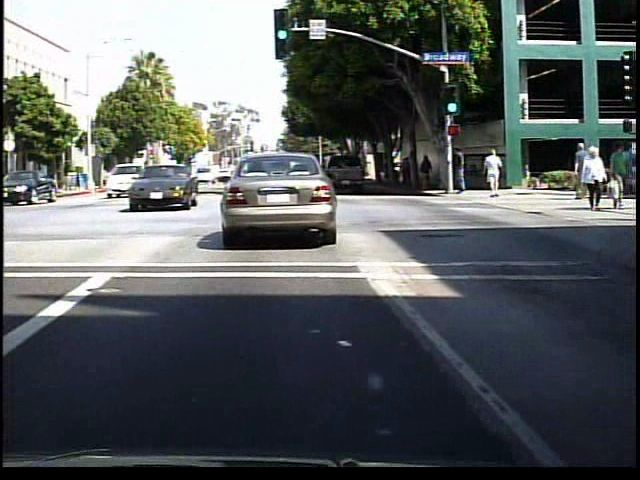person: (580, 146, 611, 211), (609, 144, 634, 208), (575, 141, 598, 204), (481, 147, 504, 201), (454, 144, 475, 201), (423, 152, 439, 191), (408, 156, 421, 190)
